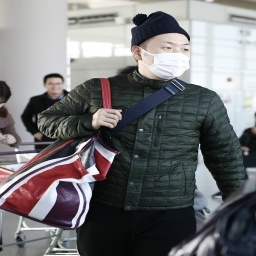correctlyWear: (130, 37, 191, 79)
noWear: (43, 79, 63, 93)
